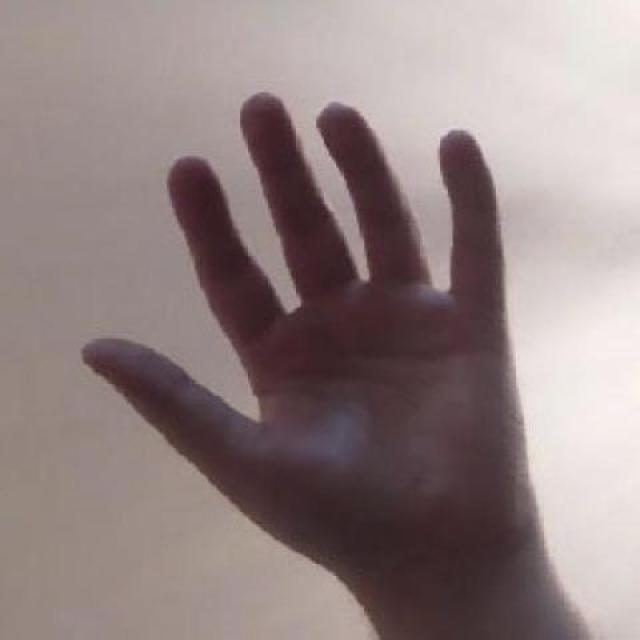Open Hand: (81, 92, 570, 640)
